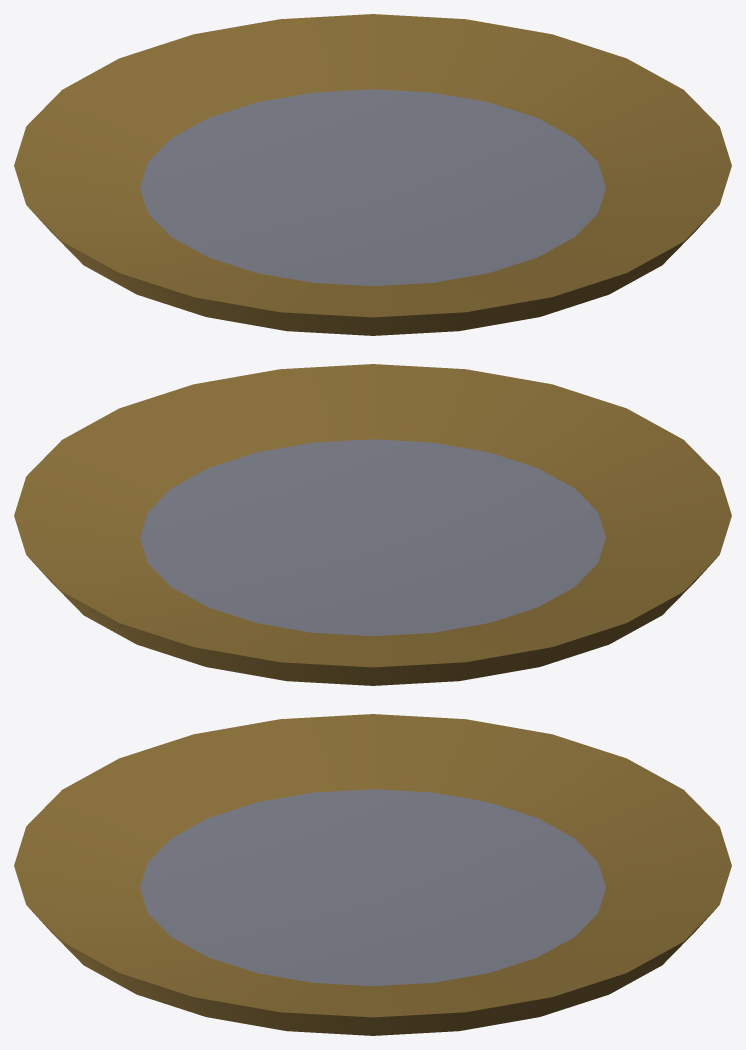
Rendered from TEMP_Plate.fbx.
The picture shows the model from 3 angles, top to bottom: view 1: azimuth 30°, elevation 25°; view 2: azimuth 150°, elevation 25°; view 3: azimuth 270°, elevation 25°; orthographic projection.
Parts seen in each view (by area): view 1: plate4; view 2: plate4; view 3: plate4.
Part boxes in pixels (box(x1,y1,x2,y2)): plate4: box(14, 14, 731, 335); plate4: box(14, 364, 731, 685); plate4: box(14, 714, 731, 1035).
Bounding box in the file's own units: 0.5154 × 0.0304 × 0.5154.
